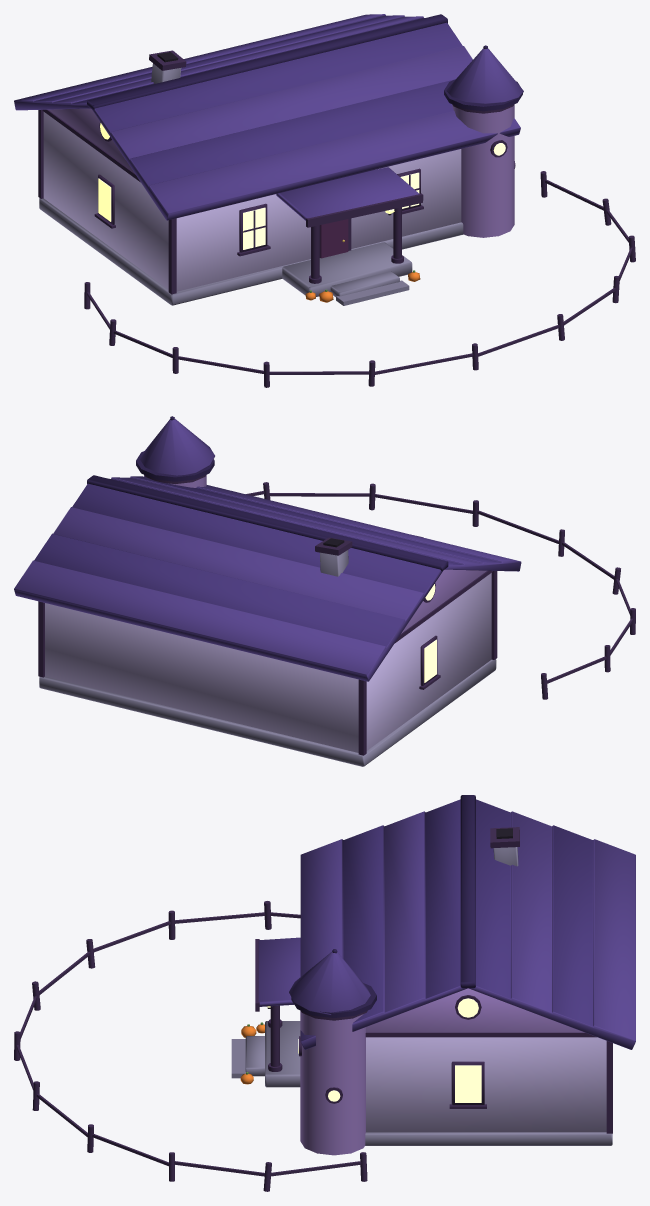
File: v_manor_exterior.glb
The picture shows the model from 3 angles, top to bottom: view 1: azimuth 30°, elevation 25°; view 2: azimuth 150°, elevation 25°; view 3: azimuth 270°, elevation 25°; orthographic projection. The views are drawn at different scales.
Visible parts, largest first — view 1: ManorExterior; view 2: ManorExterior; view 3: ManorExterior.
Part boxes in pixels (box(x1,y1,x2,y2)): ManorExterior: box(14, 14, 635, 387); ManorExterior: box(14, 416, 635, 766); ManorExterior: box(14, 795, 635, 1191).
Bounding box in the file's own units: 21.28 × 7.3 × 21.1.
